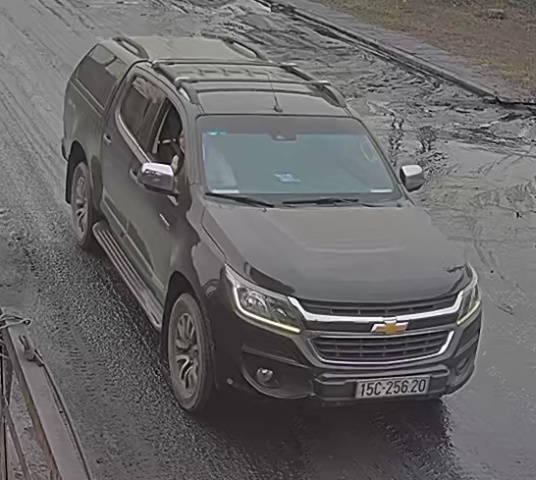vehicle plate: (354, 370, 433, 400)
